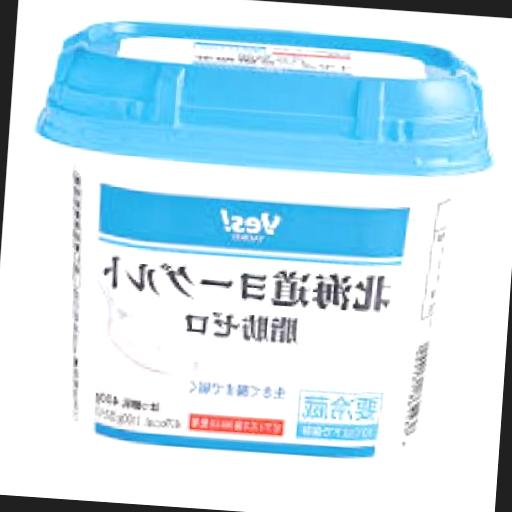plastic: (12, 9, 506, 498), (36, 9, 504, 180)
